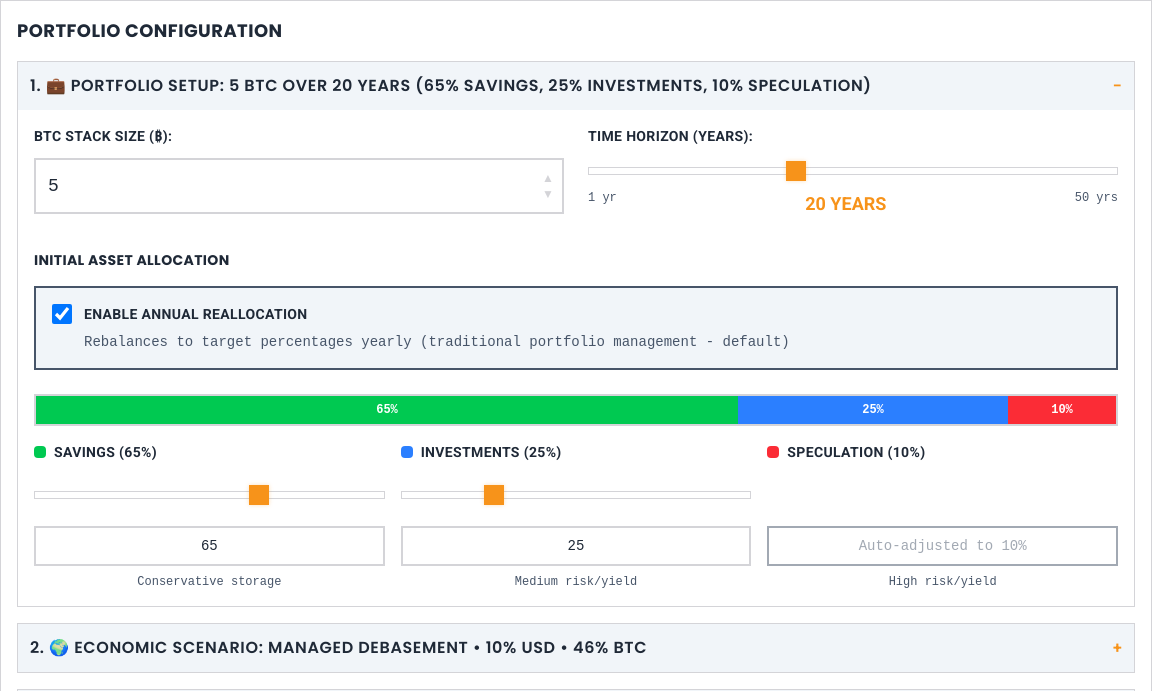
Test: PortfolioForm › should handle time horizon slider edge cases
Test minimum value
Set the slider showing "20" below "TIME HORIZON (YEARS):" to "1" at (596, 171), box [588,167,1118,175]
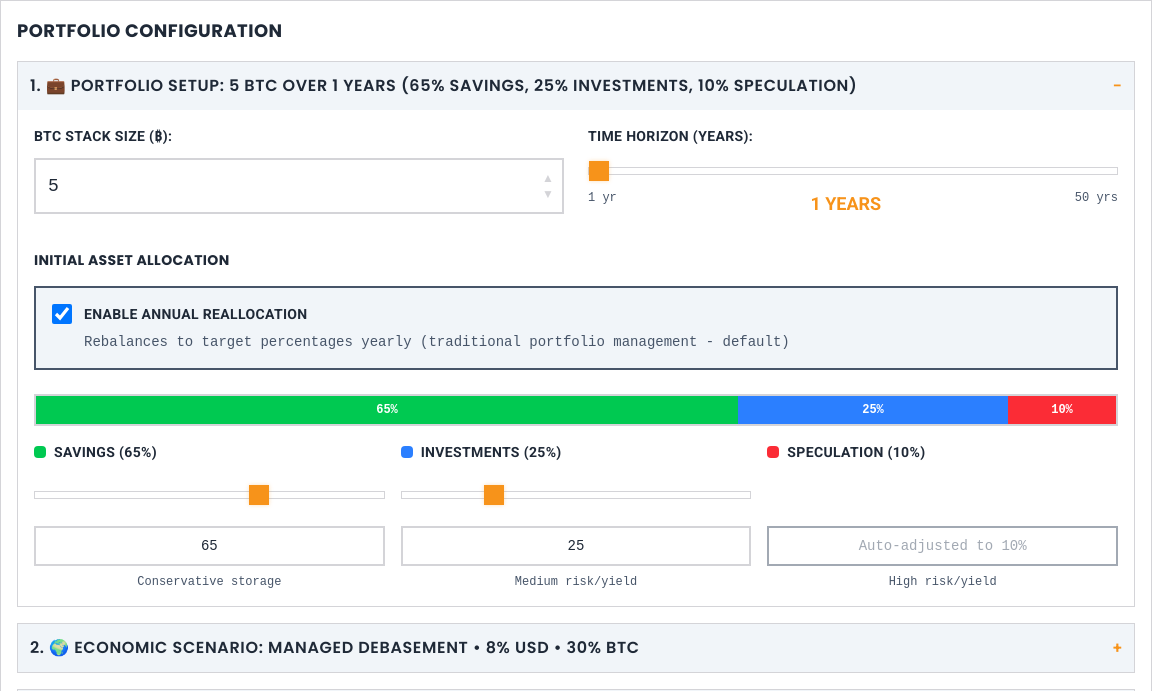
Result: the text "1 YEARS" is shown at [810,190,881,218]
Test maximum value
Set the slider showing "20" below "TIME HORIZON (YEARS):" to "50" at (1110, 171), box [588,167,1118,175]
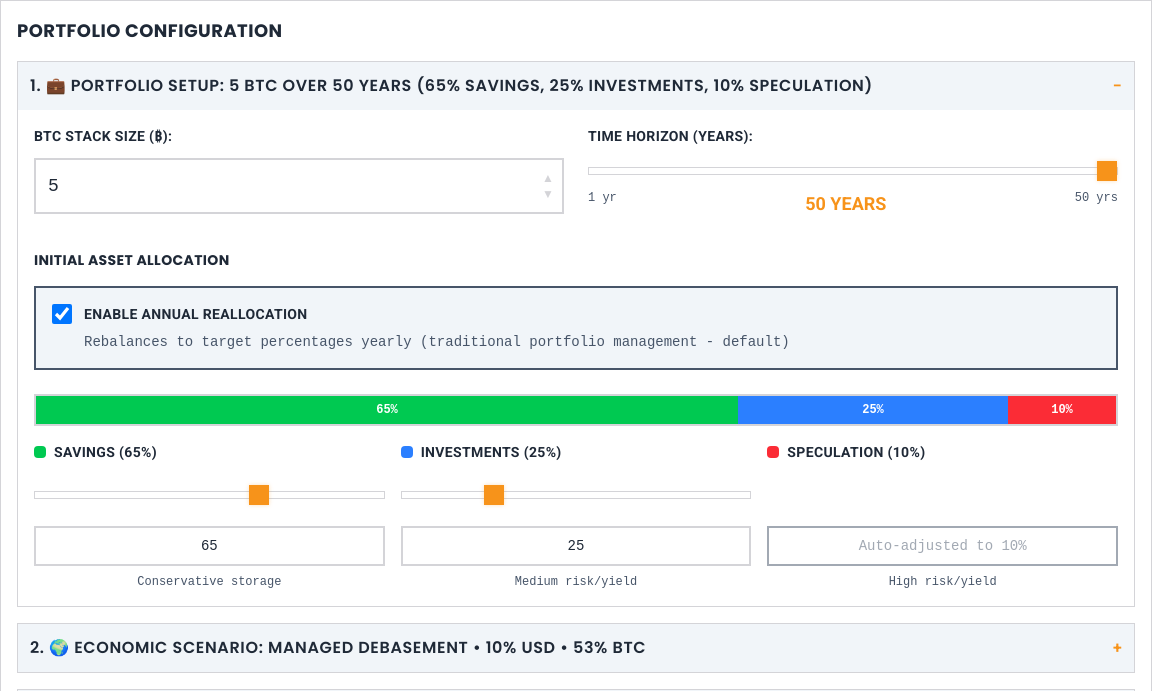
Result: the text "50 YEARS" is shown at [805,190,886,218]
